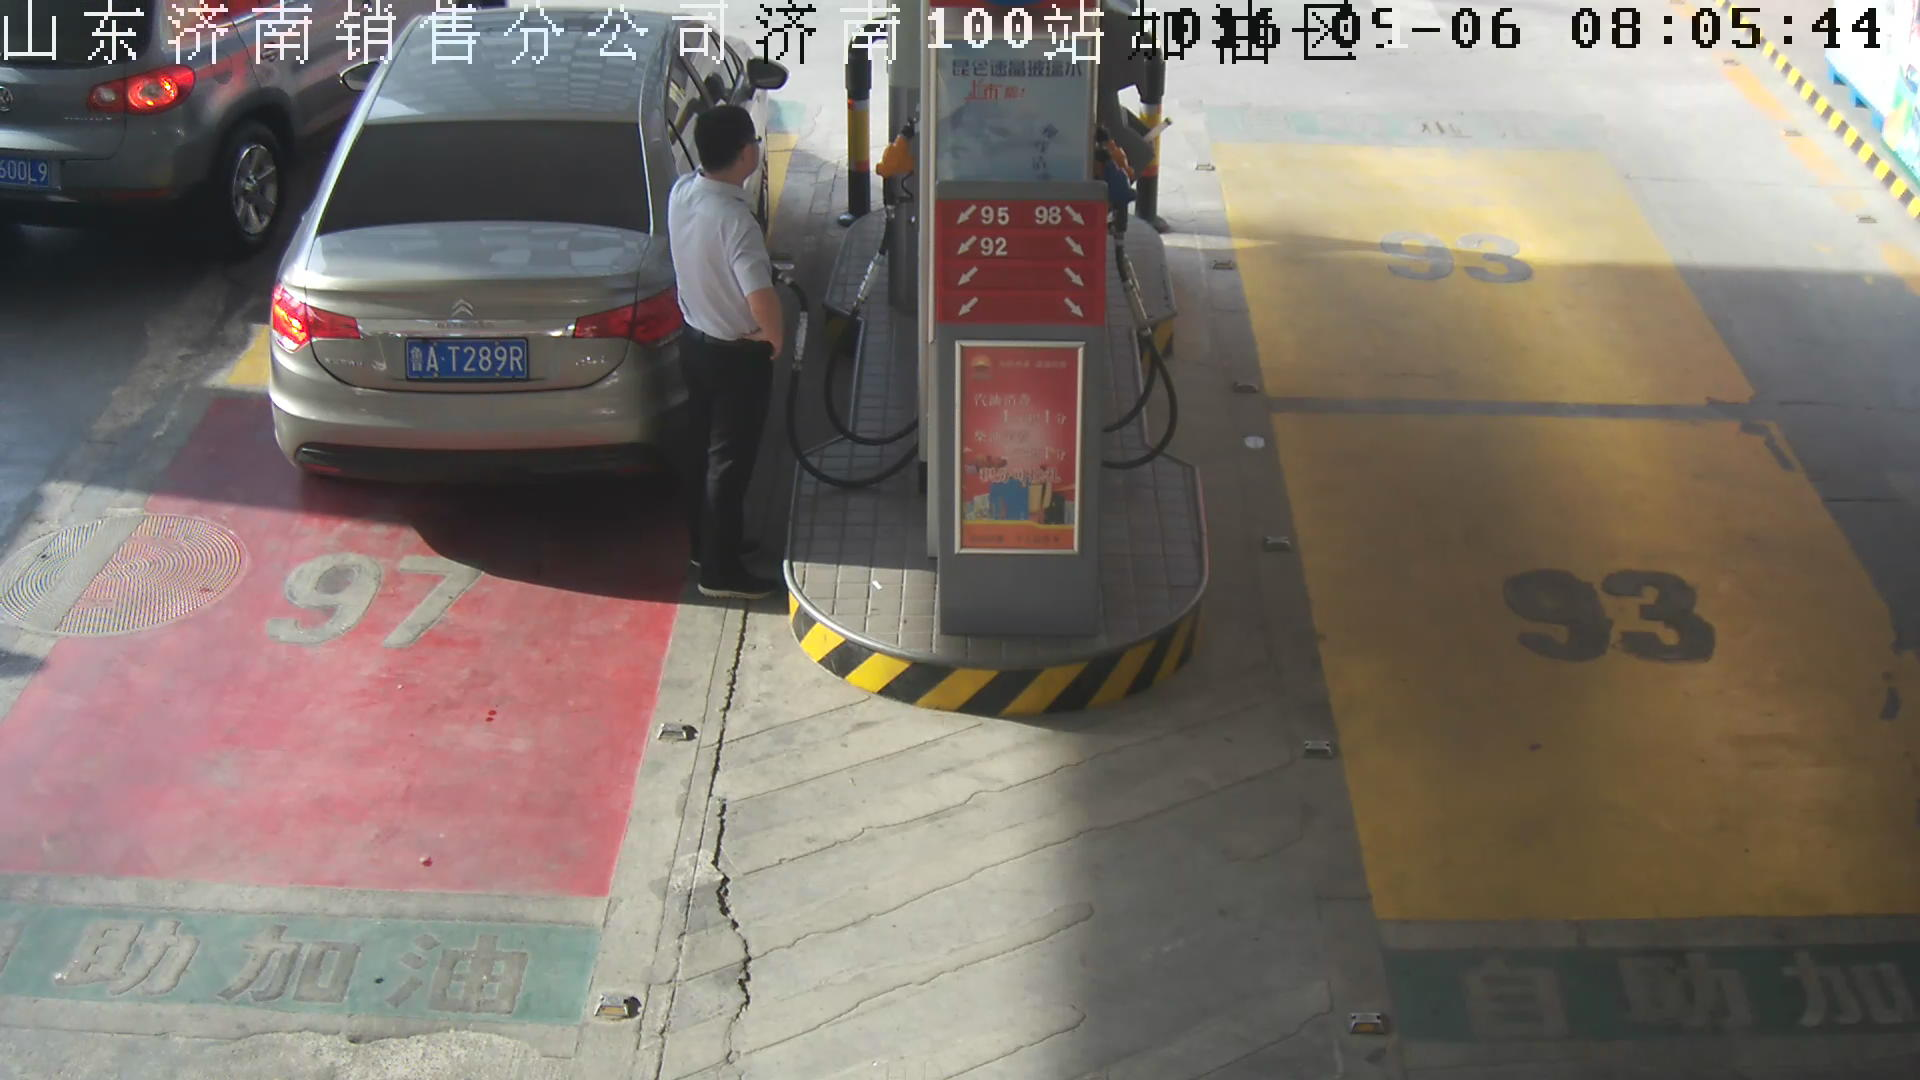blue: (405, 338, 531, 382)
